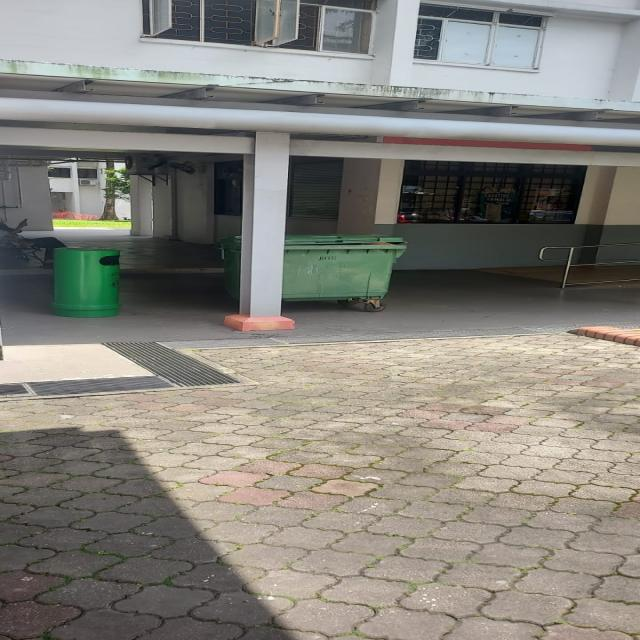bin_empty: (217, 234, 409, 304), (52, 246, 120, 313)
